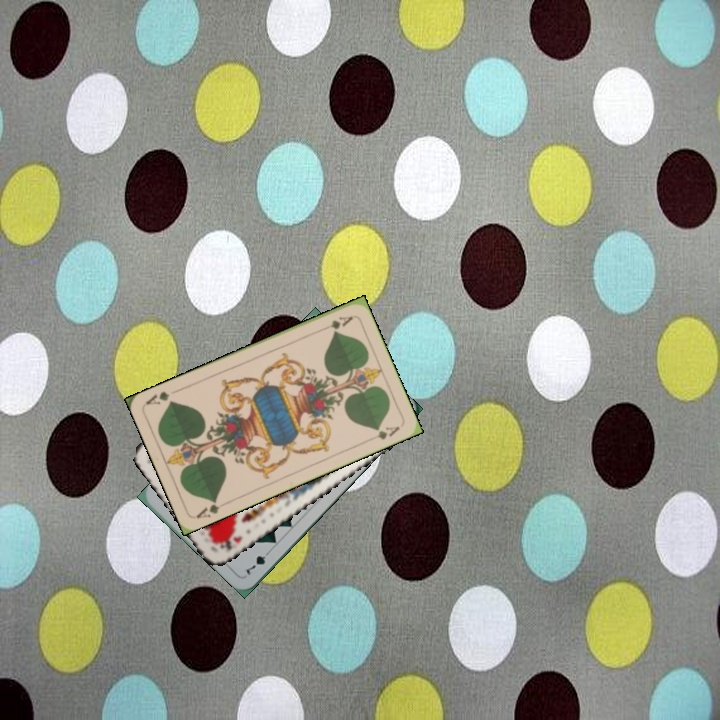G7: (241, 545, 274, 577)
GA: (317, 312, 355, 334), (192, 495, 222, 521)
HK: (212, 528, 244, 553)
